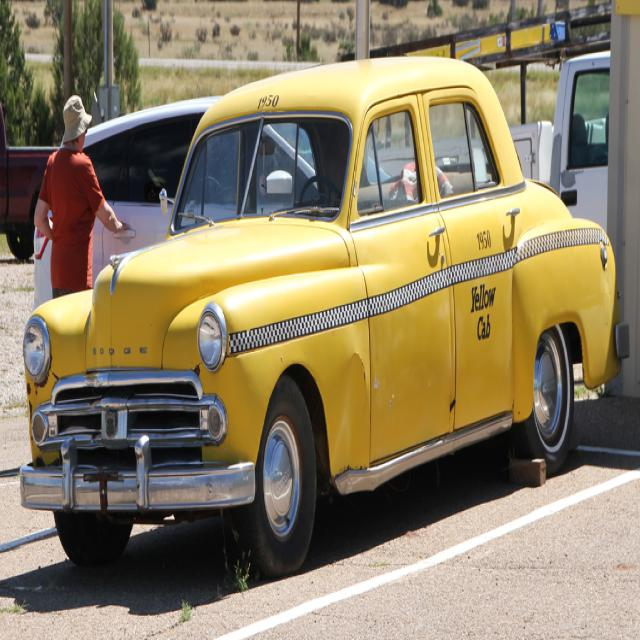car: (27, 69, 621, 574)
